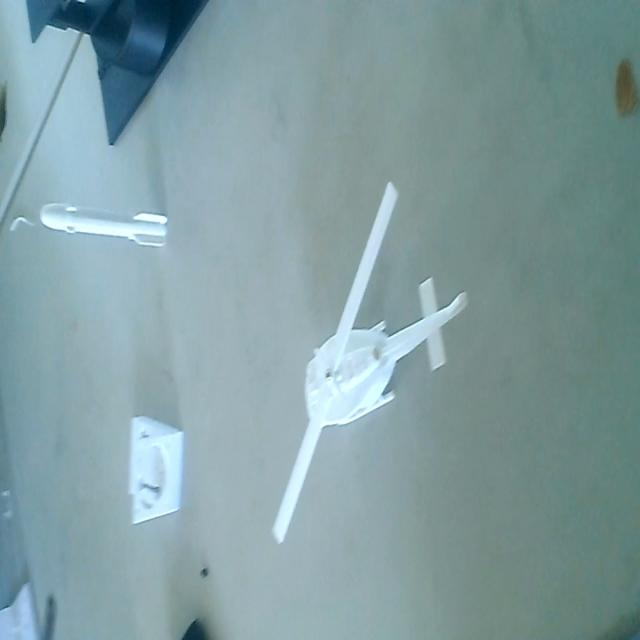Helicopter: (273, 181, 471, 544)
Rocket: (38, 197, 170, 256)
